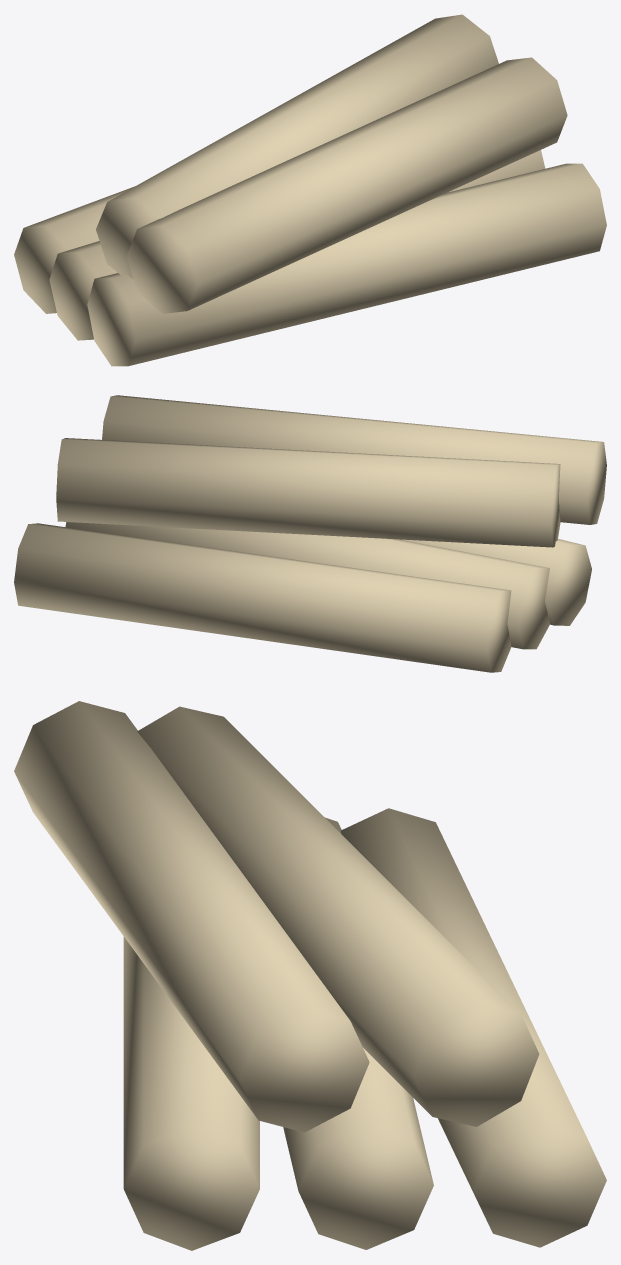
The model's file is scroll_scroll_stack.glb.
The picture shows the model from 3 angles, top to bottom: view 1: azimuth 30°, elevation 25°; view 2: azimuth 150°, elevation 25°; view 3: azimuth 270°, elevation 25°; orthographic projection. The views are drawn at different scales.
Visible parts, largest first — view 1: GD_scroll_scroll_stack__m0; view 2: GD_scroll_scroll_stack__m0; view 3: GD_scroll_scroll_stack__m0.
Part boxes in pixels (box(x1,y1,x2,y2)): GD_scroll_scroll_stack__m0: box(14, 14, 606, 366); GD_scroll_scroll_stack__m0: box(14, 395, 606, 672); GD_scroll_scroll_stack__m0: box(14, 701, 606, 1250).
Bounding box in the file's own units: 0.2844 × 0.095 × 0.2176.
